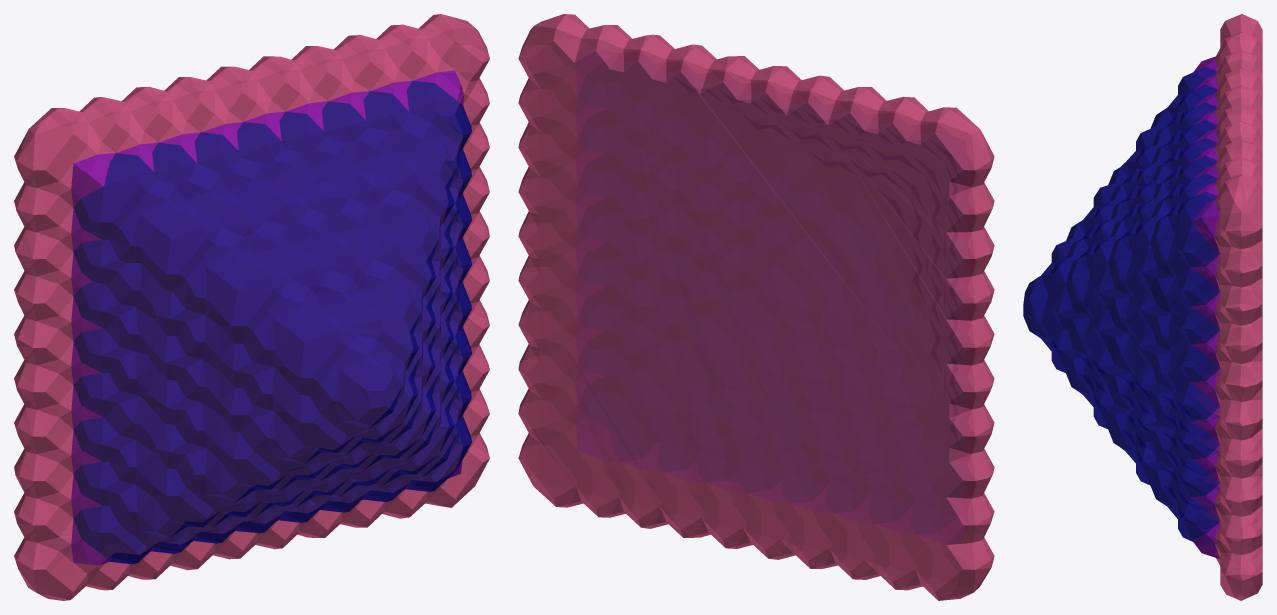
Rendered from test_wrapper_win.obj.
The picture shows the model from 3 angles, left to right: view 1: azimuth 30°, elevation 25°; view 2: azimuth 150°, elevation 25°; view 3: azimuth 270°, elevation 25°; orthographic projection. The views are drawn at different scales.
Parts seen in each view (by area): view 1: hallelujah; view 2: hallelujah; view 3: hallelujah.
Part boxes in pixels (left/top/right/bottom): hallelujah: left=14, top=14, right=489, bottom=600; hallelujah: left=518, top=14, right=994, bottom=600; hallelujah: left=1023, top=14, right=1262, bottom=600.
Bounding box in the file's own units: 22.24 × 22.24 × 11.33.
